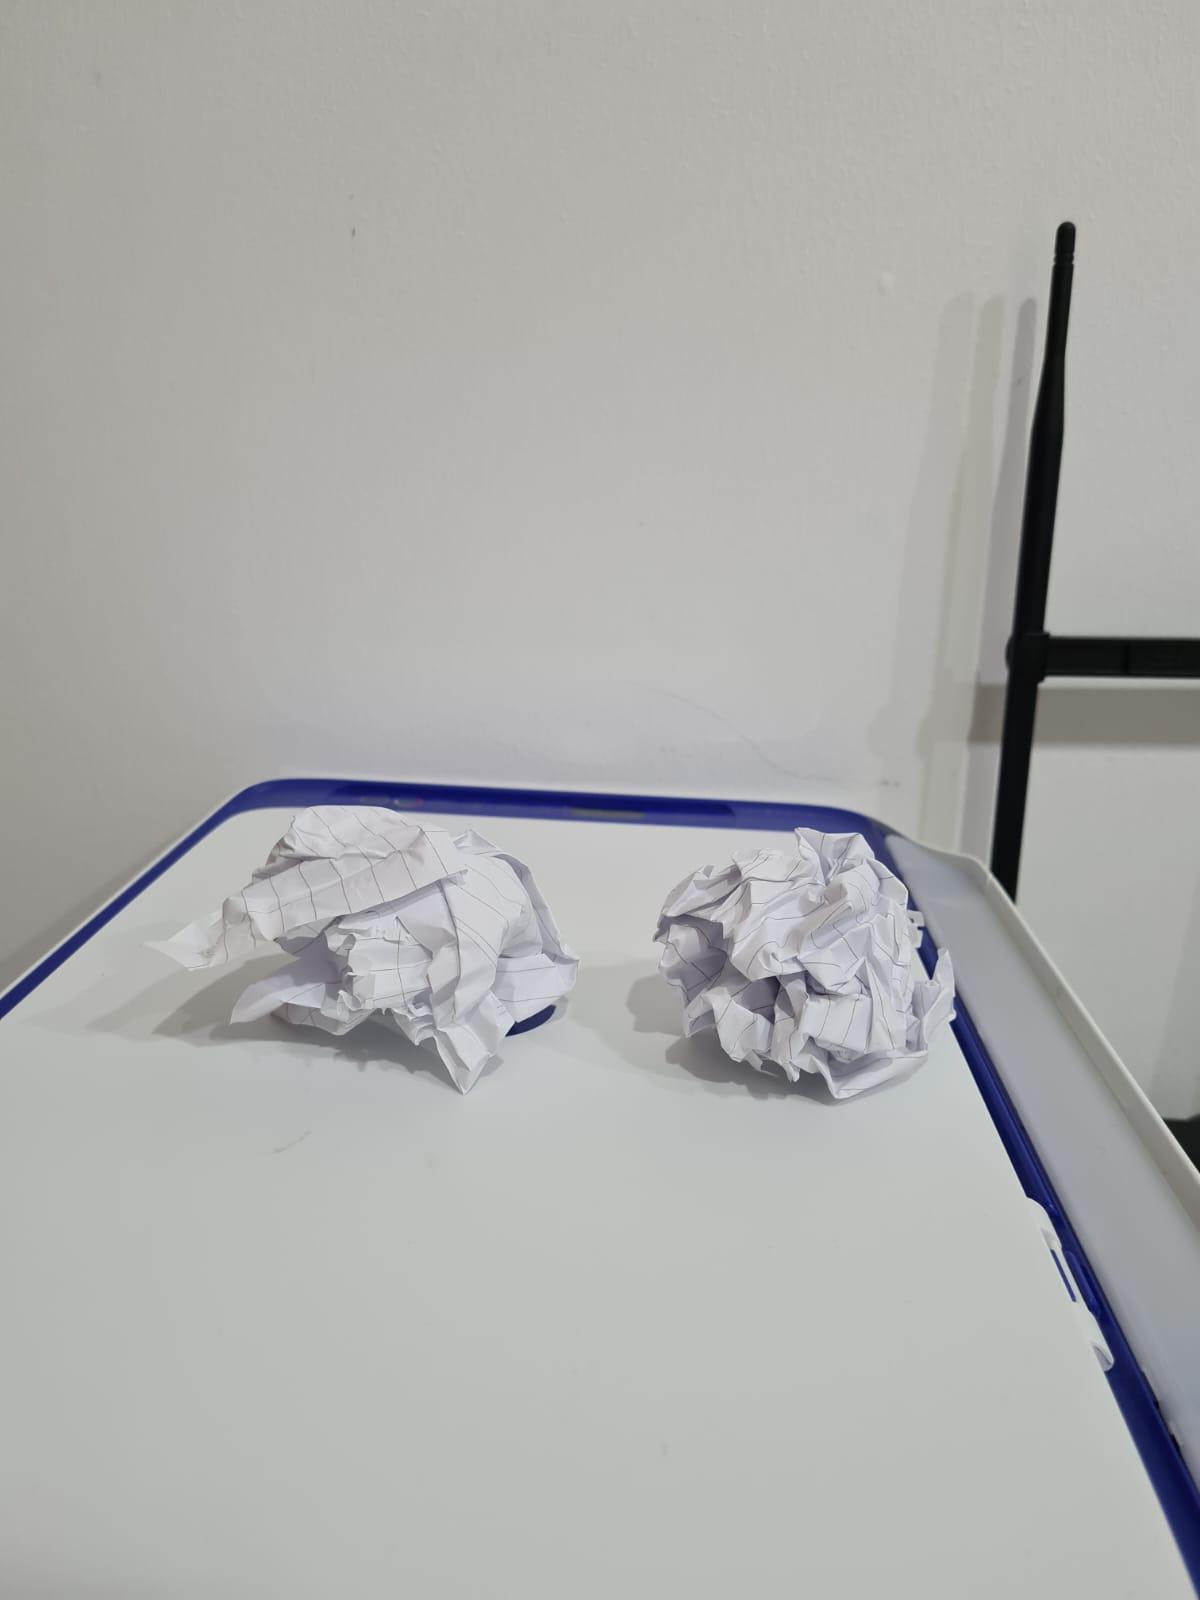Paper: (238, 797, 577, 1070), (641, 824, 943, 1071)
